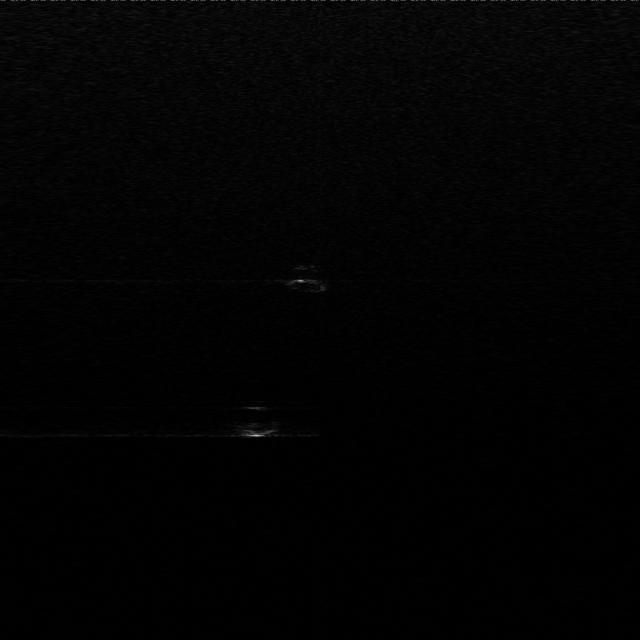ball: (224, 400, 284, 443)
tyre: (277, 261, 339, 297)
